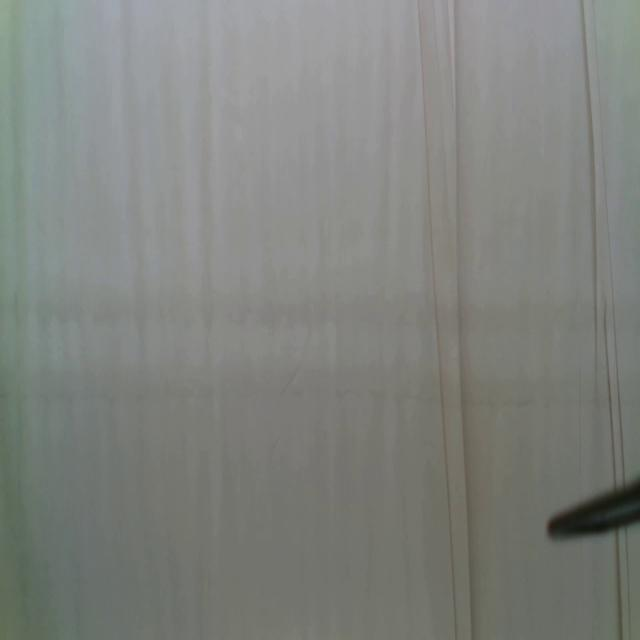color bleeding: (0, 363, 640, 428), (1, 287, 640, 339)
crease: (417, 2, 472, 640), (582, 1, 628, 482)
